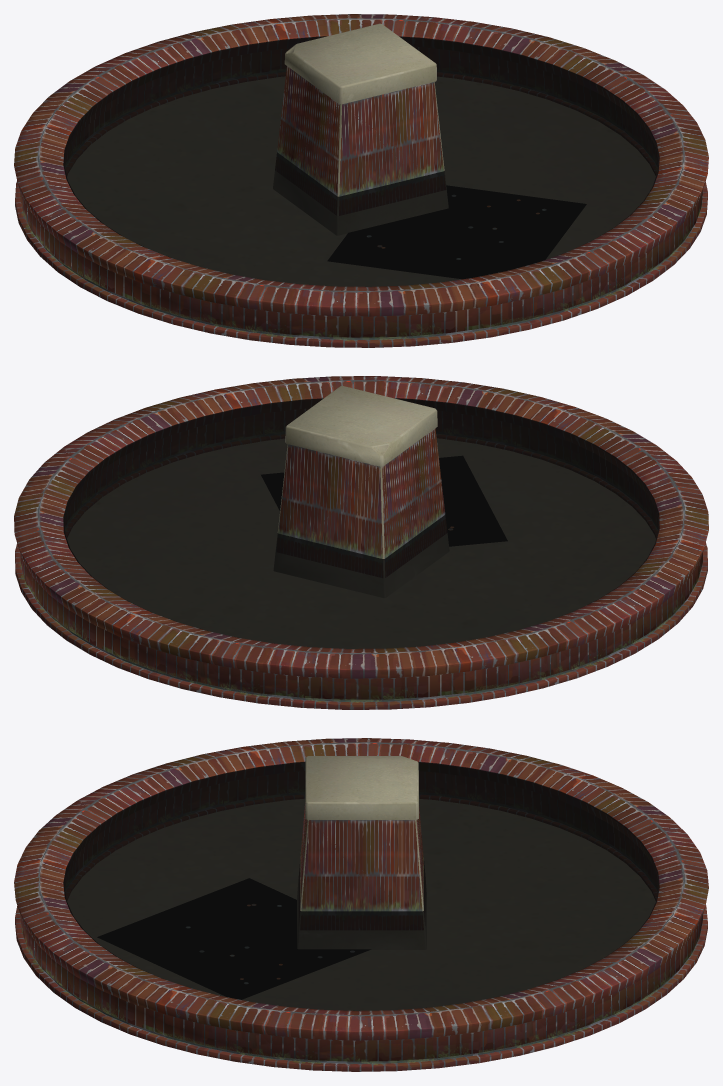
File: fountain.fbx
3 renders of one model, top to bottom at view 1: azimuth 30°, elevation 25°; view 2: azimuth 150°, elevation 25°; view 3: azimuth 270°, elevation 25°, orthographic.
Visible parts, largest first — view 1: Procedural_Water, Combined Mesh (root: scene) 51_6, Combined Mesh (root: scene) 51_5, Combined Mesh (root: scene) 53_113, Combined Mesh (root: scene) 64_33, Combined Mesh (root: scene) 51_7, Combined Mesh (root: scene) 53_110, Combined Mesh (root: scene) 55_70, Combined Mesh (root: scene) 53_112; view 2: Procedural_Water, Combined Mesh (root: scene) 51_6, Combined Mesh (root: scene) 51_5, Combined Mesh (root: scene) 53_113, Combined Mesh (root: scene) 51_7, Combined Mesh (root: scene) 53_110, Combined Mesh (root: scene) 55_70, Combined Mesh (root: scene) 64_33, Combined Mesh (root: scene) 53_112; view 3: Procedural_Water, Combined Mesh (root: scene) 51_6, Combined Mesh (root: scene) 51_5, Combined Mesh (root: scene) 64_33, Combined Mesh (root: scene) 53_113, Combined Mesh (root: scene) 51_7, Combined Mesh (root: scene) 53_110, Combined Mesh (root: scene) 55_70, Combined Mesh (root: scene) 53_112.
Boxes of the visible parts, left/top/right/bottom form: Procedural_Water: left=63, top=36, right=659, bottom=286; Combined Mesh (root: scene) 51_6: left=14, top=14, right=708, bottom=347; Combined Mesh (root: scene) 51_5: left=67, top=77, right=655, bottom=286; Combined Mesh (root: scene) 53_113: left=275, top=66, right=445, bottom=215; Combined Mesh (root: scene) 64_33: left=328, top=186, right=585, bottom=278; Combined Mesh (root: scene) 51_7: left=65, top=55, right=657, bottom=174; Combined Mesh (root: scene) 53_110: left=284, top=23, right=436, bottom=104; Combined Mesh (root: scene) 55_70: left=64, top=38, right=658, bottom=221; Combined Mesh (root: scene) 53_112: left=273, top=171, right=447, bottom=234; Procedural_Water: left=63, top=398, right=659, bottom=648; Combined Mesh (root: scene) 51_6: left=14, top=376, right=708, bottom=709; Combined Mesh (root: scene) 51_5: left=67, top=439, right=655, bottom=648; Combined Mesh (root: scene) 53_113: left=276, top=428, right=446, bottom=577; Combined Mesh (root: scene) 51_7: left=65, top=417, right=657, bottom=536; Combined Mesh (root: scene) 53_110: left=285, top=386, right=437, bottom=466; Combined Mesh (root: scene) 55_70: left=64, top=399, right=658, bottom=563; Combined Mesh (root: scene) 64_33: left=261, top=456, right=506, bottom=545; Combined Mesh (root: scene) 53_112: left=274, top=534, right=448, bottom=597; Procedural_Water: left=63, top=762, right=659, bottom=1010; Combined Mesh (root: scene) 51_6: left=14, top=738, right=708, bottom=1071; Combined Mesh (root: scene) 51_5: left=67, top=799, right=655, bottom=1010; Combined Mesh (root: scene) 64_33: left=98, top=879, right=367, bottom=999; Combined Mesh (root: scene) 53_113: left=299, top=802, right=424, bottom=929; Combined Mesh (root: scene) 51_7: left=65, top=779, right=657, bottom=899; Combined Mesh (root: scene) 53_110: left=305, top=756, right=418, bottom=819; Combined Mesh (root: scene) 55_70: left=64, top=763, right=658, bottom=927; Combined Mesh (root: scene) 53_112: left=297, top=892, right=426, bottom=949.
Bounding box in the file's own units: 604 × 140 × 604.
